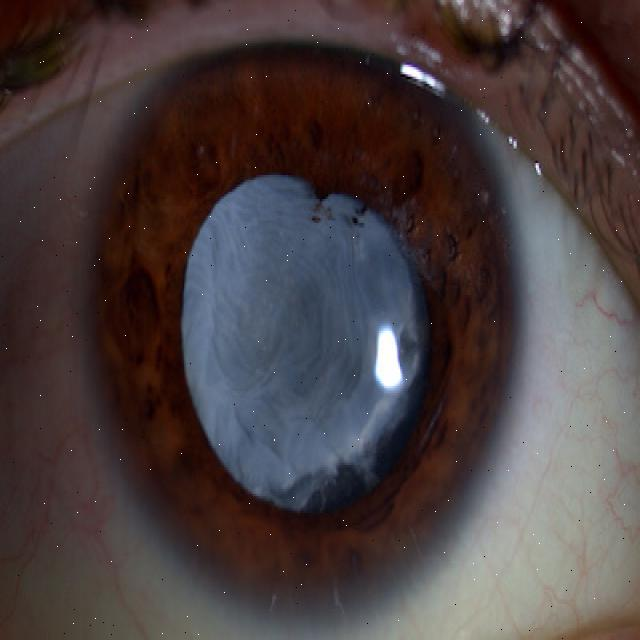Cataract: (81, 0, 512, 609)
